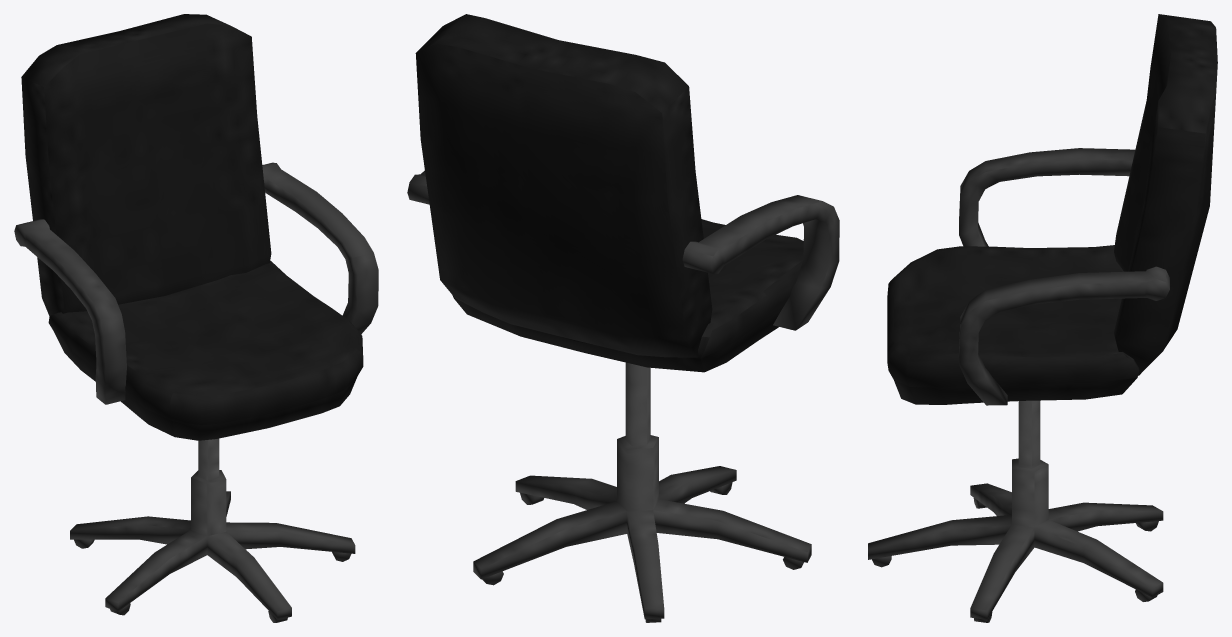
File: chair.dae
3 views of the same model, side by side, from view 1: azimuth 30°, elevation 25°; view 2: azimuth 150°, elevation 25°; view 3: azimuth 270°, elevation 25° (orthographic). The views are drawn at different scales.
Visible parts, largest first — view 1: Basic Office Chair.001; view 2: Basic Office Chair.001; view 3: Basic Office Chair.001.
Boxes of the visible parts, x1,y1,x2,y2 form: Basic Office Chair.001: [14, 14, 378, 622]; Basic Office Chair.001: [407, 14, 839, 622]; Basic Office Chair.001: [868, 14, 1217, 622].
Bounding box in the file's own units: 0.5 × 0.52 × 0.84.
Materials: 1 (1 with a texture image).
